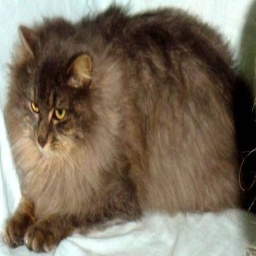cat: (6, 5, 255, 250)
